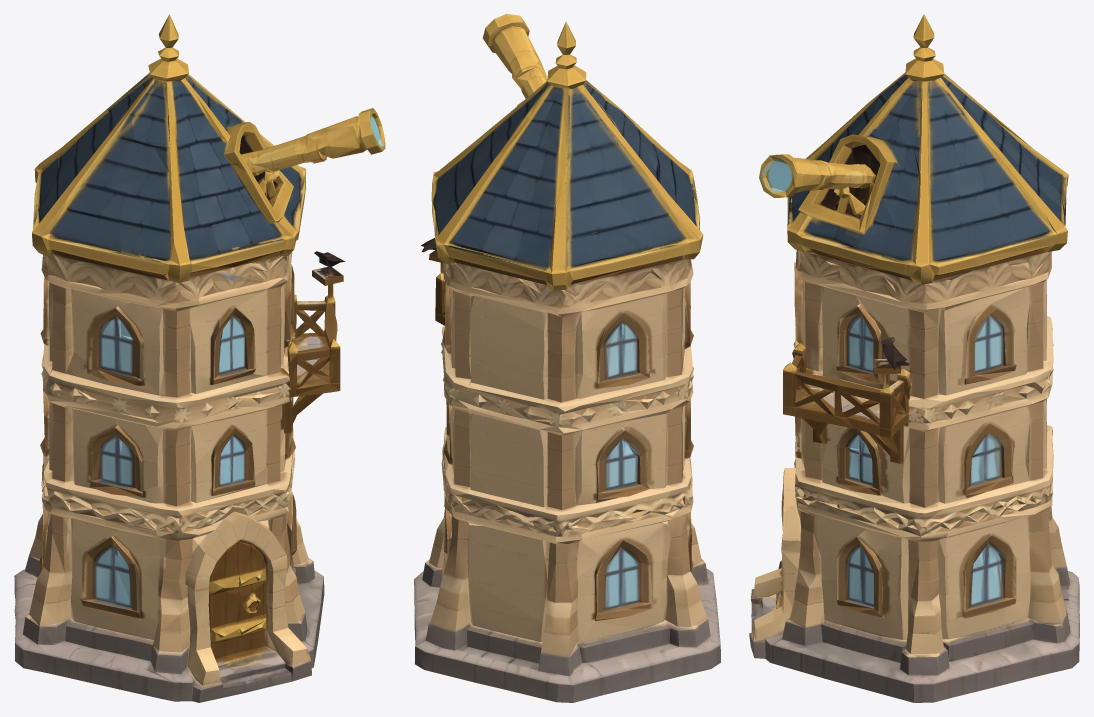
Rendered from TWN_STR_observatory_A.glb.
3 views of the same model, side by side, from view 1: azimuth 30°, elevation 25°; view 2: azimuth 150°, elevation 25°; view 3: azimuth 270°, elevation 25° (orthographic).
Parts seen in each view (by area): view 1: Mesh_0; view 2: Mesh_0; view 3: Mesh_0.
Part boxes in pixels (x1,y1,x2,y2): Mesh_0: (14, 14, 385, 702); Mesh_0: (414, 14, 720, 702); Mesh_0: (749, 14, 1079, 702).
Bounding box in the file's own units: 1.01 × 1.9 × 0.9249.
1 material, 1 textured.
